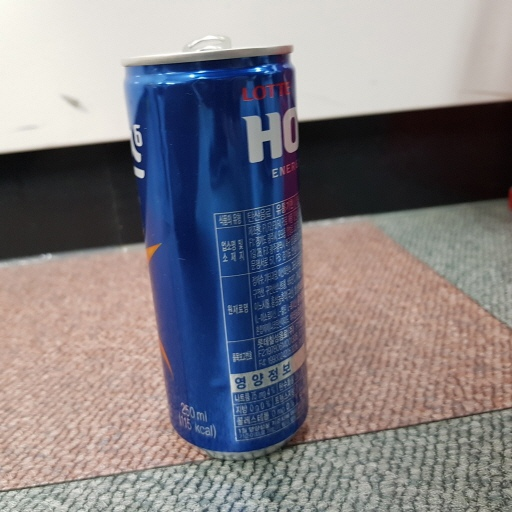Metal_0: (120, 34, 312, 459)
